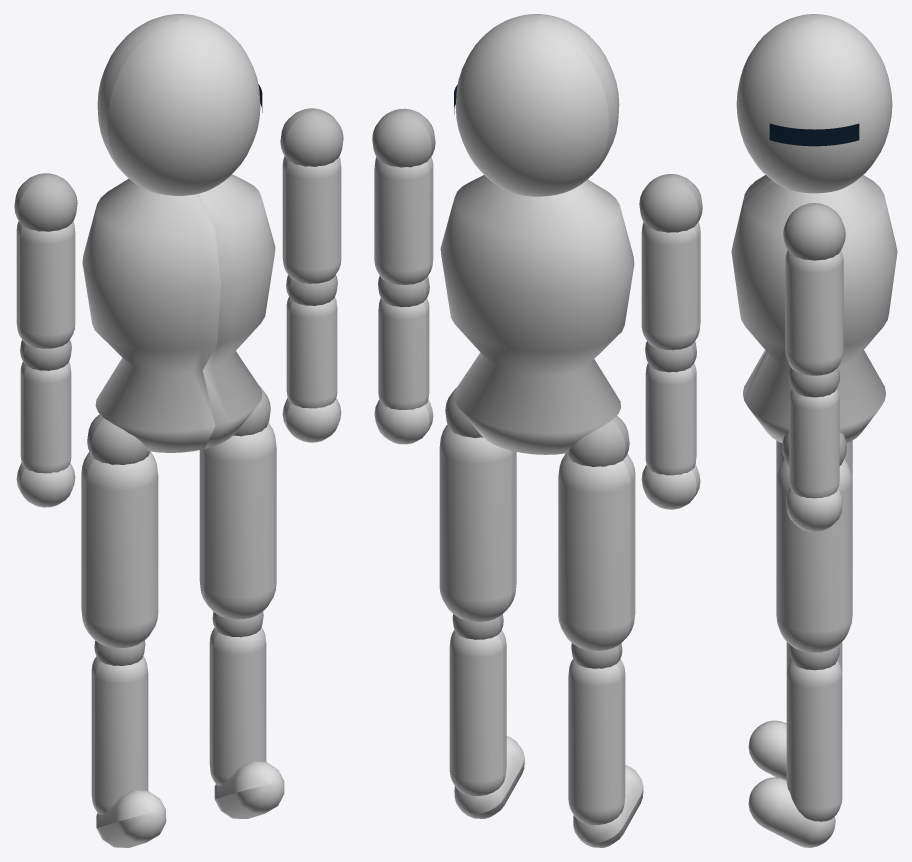
The model's file is wide.glb.
The picture shows the model from 3 angles, left to right: view 1: azimuth 30°, elevation 25°; view 2: azimuth 150°, elevation 25°; view 3: azimuth 270°, elevation 25°; orthographic projection. The views are drawn at different scales.
Visible parts, largest first — view 1: Torso, HeadMesh, Thigh_L, Thigh_R, Shin_L, Shin_R, UpperArm_L, UpperArm_R, ForeArm_R, ForeArm_L, Foot_R, Joint_LS (+10 smaller); view 2: Torso, HeadMesh, Thigh_L, Thigh_R, Shin_R, Shin_L, UpperArm_L, UpperArm_R, ForeArm_L, ForeArm_R, Joint_LS, Joint_RS (+10 smaller); view 3: Torso, HeadMesh, Thigh_R, Shin_R, UpperArm_R, ForeArm_R, Foot_R, Joint_RS, Foot_L, Hand_R, Visor, Joint_RE (+3 smaller).
Boxes of the visible parts, x1,y1,x2,y2 form: Torso: [82, 174, 275, 452]; HeadMesh: [97, 14, 260, 195]; Thigh_L: [81, 452, 158, 648]; Thigh_R: [199, 422, 276, 619]; Shin_L: [91, 656, 148, 814]; Shin_R: [209, 627, 266, 785]; UpperArm_L: [16, 221, 75, 348]; UpperArm_R: [282, 156, 341, 283]; ForeArm_R: [286, 297, 337, 408]; ForeArm_L: [20, 362, 71, 473]; Foot_R: [214, 761, 284, 818]; Joint_LS: [14, 173, 77, 231]; Torso: [440, 175, 634, 454]; HeadMesh: [455, 14, 619, 196]; Thigh_L: [558, 453, 635, 650]; Thigh_R: [439, 424, 516, 621]; Shin_R: [449, 630, 506, 796]; Shin_L: [568, 659, 625, 825]; UpperArm_L: [641, 222, 700, 350]; UpperArm_R: [374, 157, 433, 284]; ForeArm_L: [645, 363, 696, 475]; ForeArm_R: [378, 298, 429, 409]; Joint_LS: [639, 174, 702, 232]; Joint_RS: [372, 108, 435, 167]; Torso: [731, 175, 897, 443]; HeadMesh: [736, 14, 892, 193]; Thigh_R: [776, 459, 852, 652]; Shin_R: [786, 660, 842, 821]; UpperArm_R: [785, 250, 843, 375]; ForeArm_R: [789, 388, 839, 498]; Foot_R: [748, 777, 835, 847]; Joint_RS: [783, 203, 845, 260]; Foot_L: [748, 720, 786, 779]; Hand_R: [786, 487, 842, 531]; Visor: [769, 123, 859, 146]; Joint_RE: [788, 367, 840, 397].
Bounding box in the file's own units: 0.652 × 1.57 × 0.2968.
